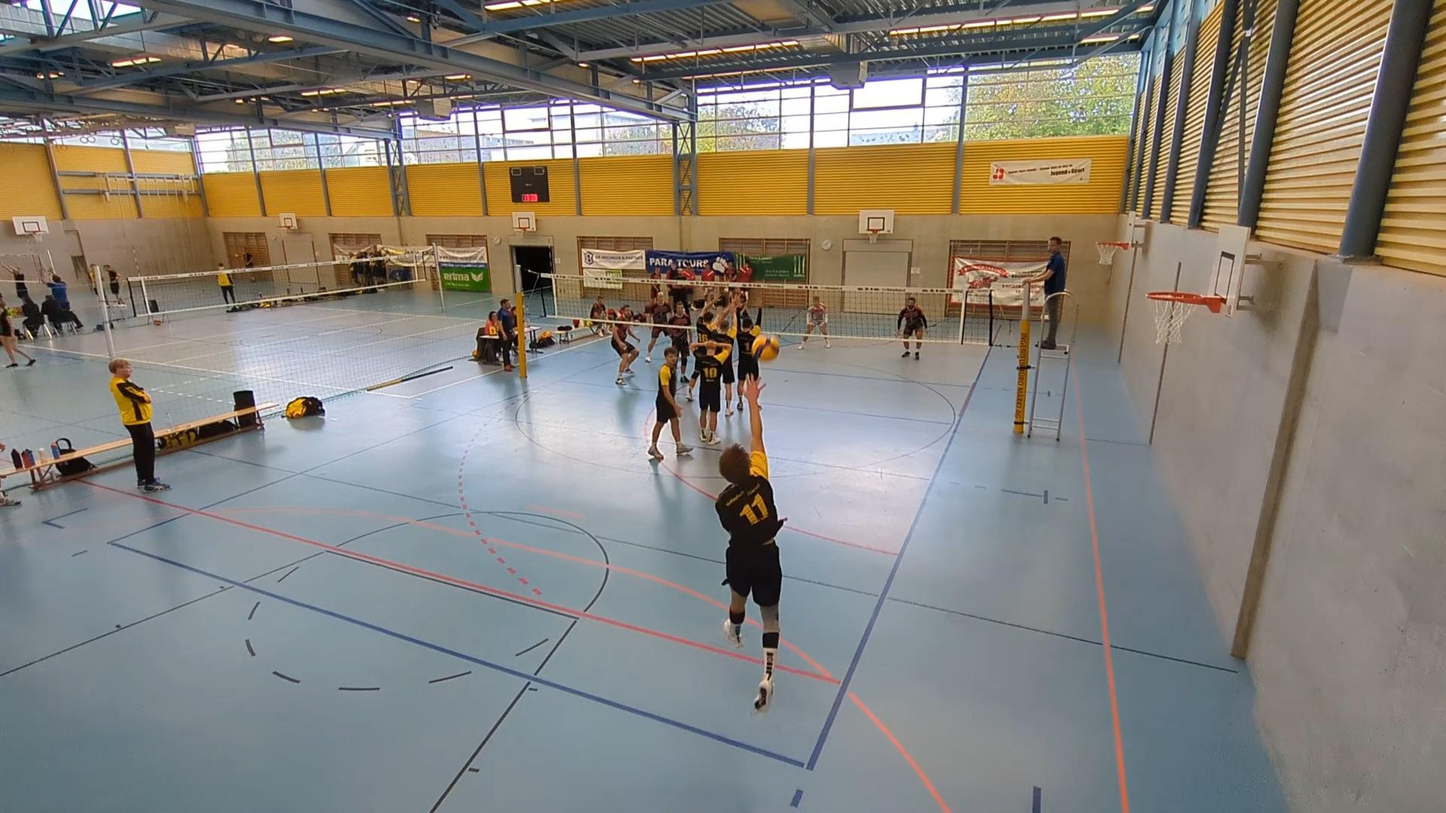battuta: (714, 370, 792, 715)
